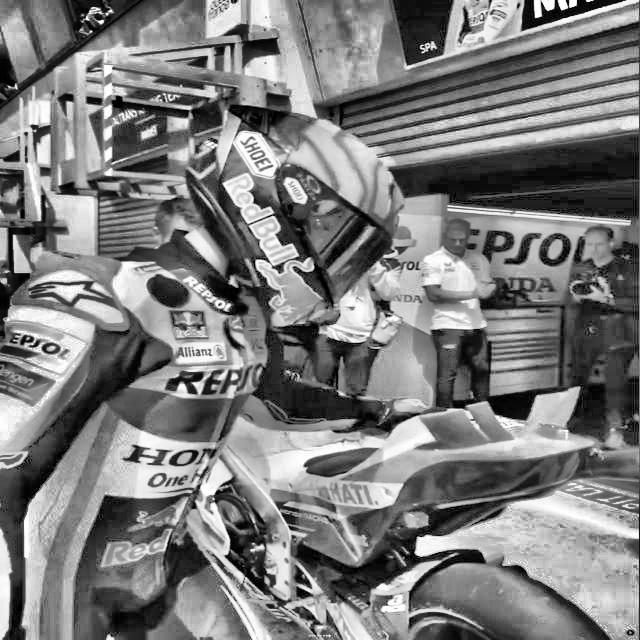Helmet: (175, 97, 409, 340)
